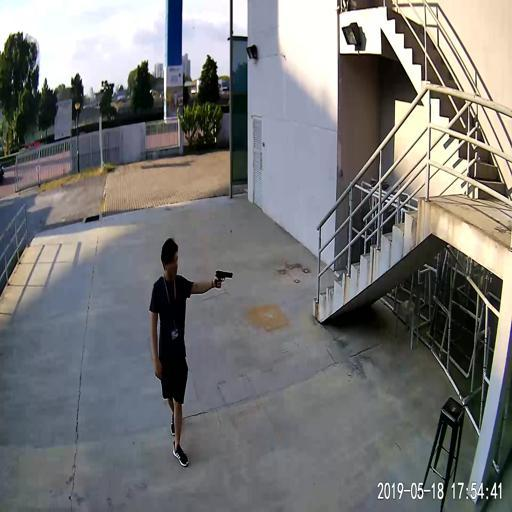Handgun: (213, 267, 232, 287)
